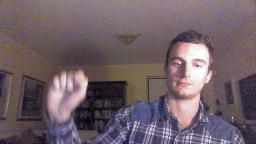Pugno: (40, 67, 89, 121)
